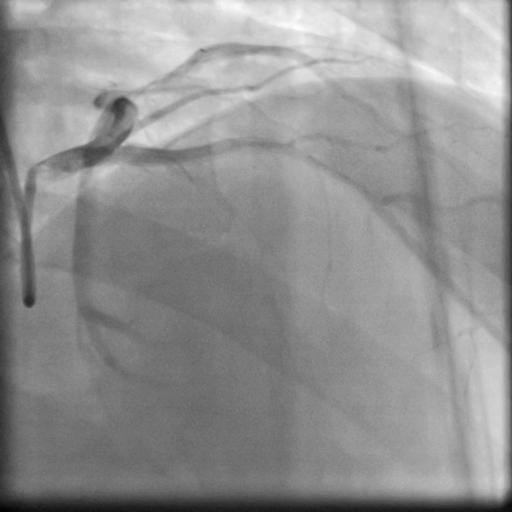Stenosis: (121, 71, 168, 96)
